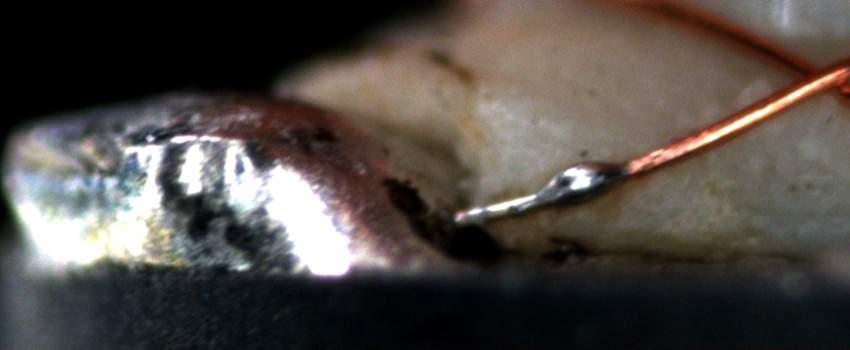CL: (772, 45, 848, 107)
TB: (536, 157, 621, 206)
TS: (452, 163, 628, 225)
TTCW: (446, 139, 685, 234)
